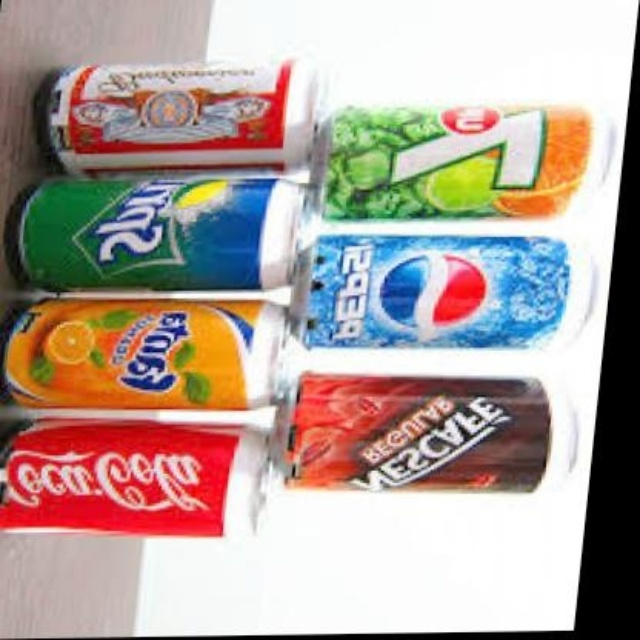trash: (14, 177, 302, 289), (288, 372, 549, 491), (49, 58, 317, 171), (3, 300, 283, 408), (0, 422, 265, 535), (326, 105, 589, 218), (306, 235, 568, 346)
